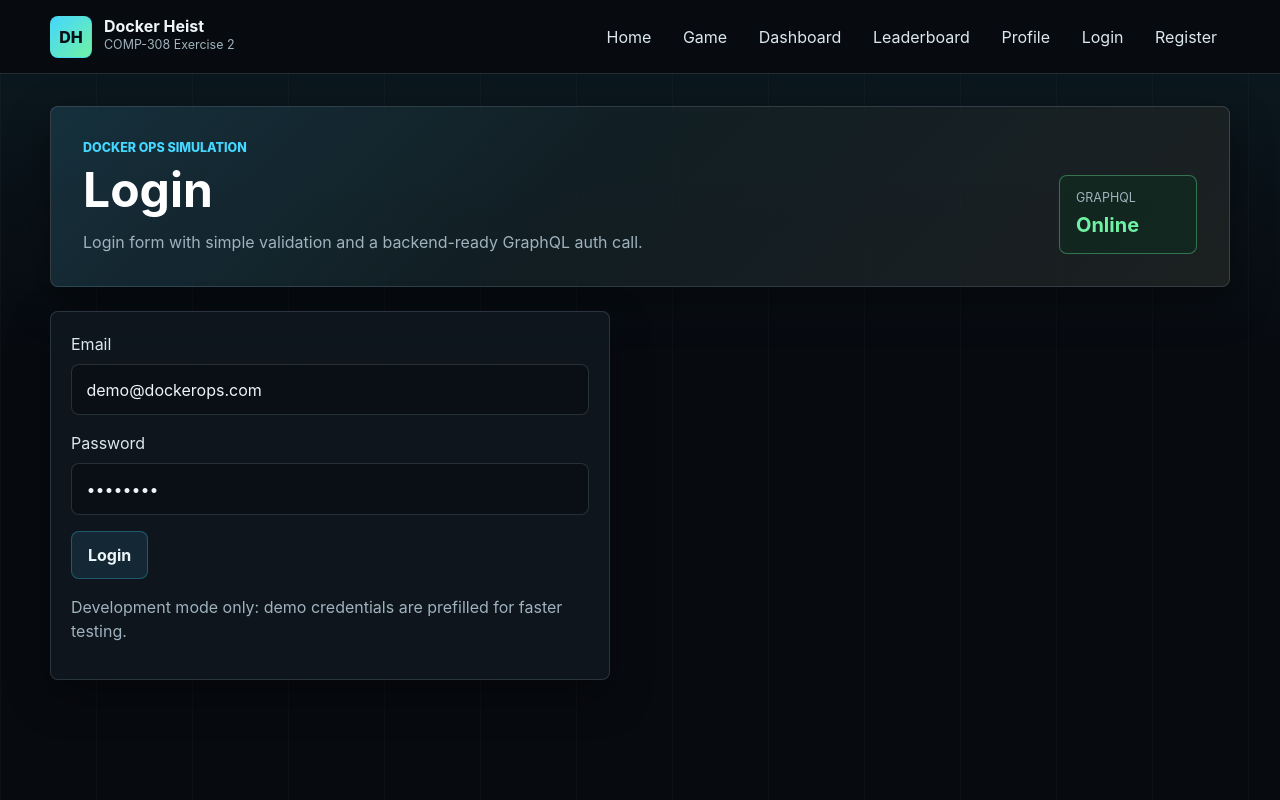
it: LoginPage › shows validation error when fields are empty
The width and height of the screenshot is (1280, 800).
Clear the field labelled "Email" at [330, 390], box [71,364,589,415]
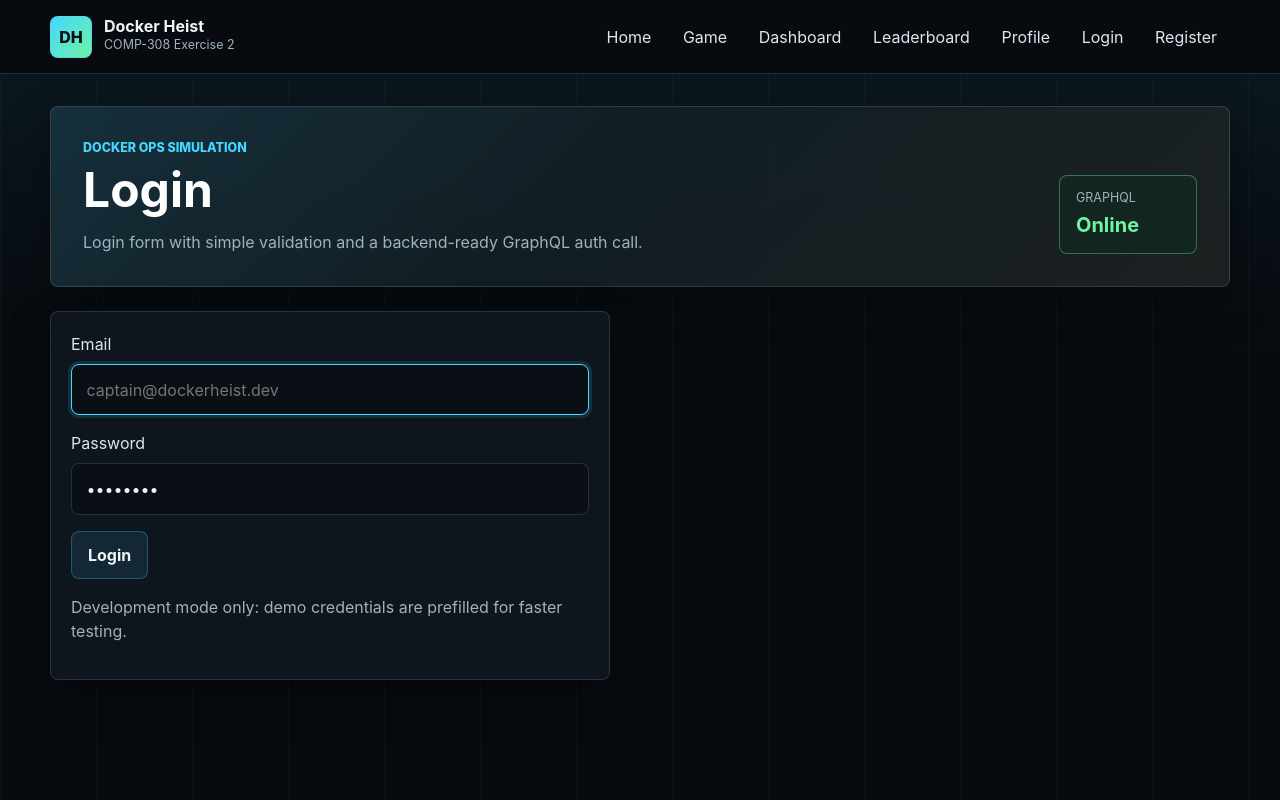
Clear the password field labelled "Password" at [330, 489], box [71,463,589,515]
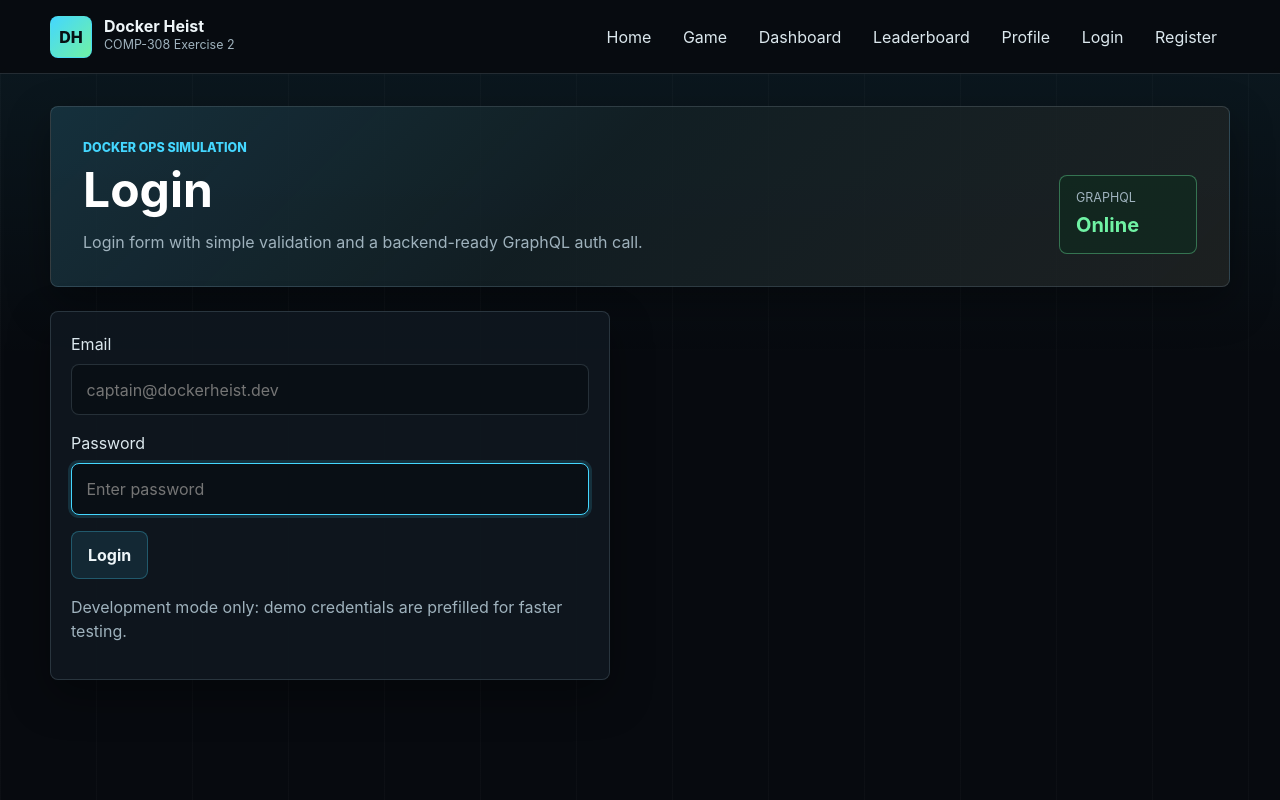
Click the button "Login" at [110, 555], box [71,531,148,579]
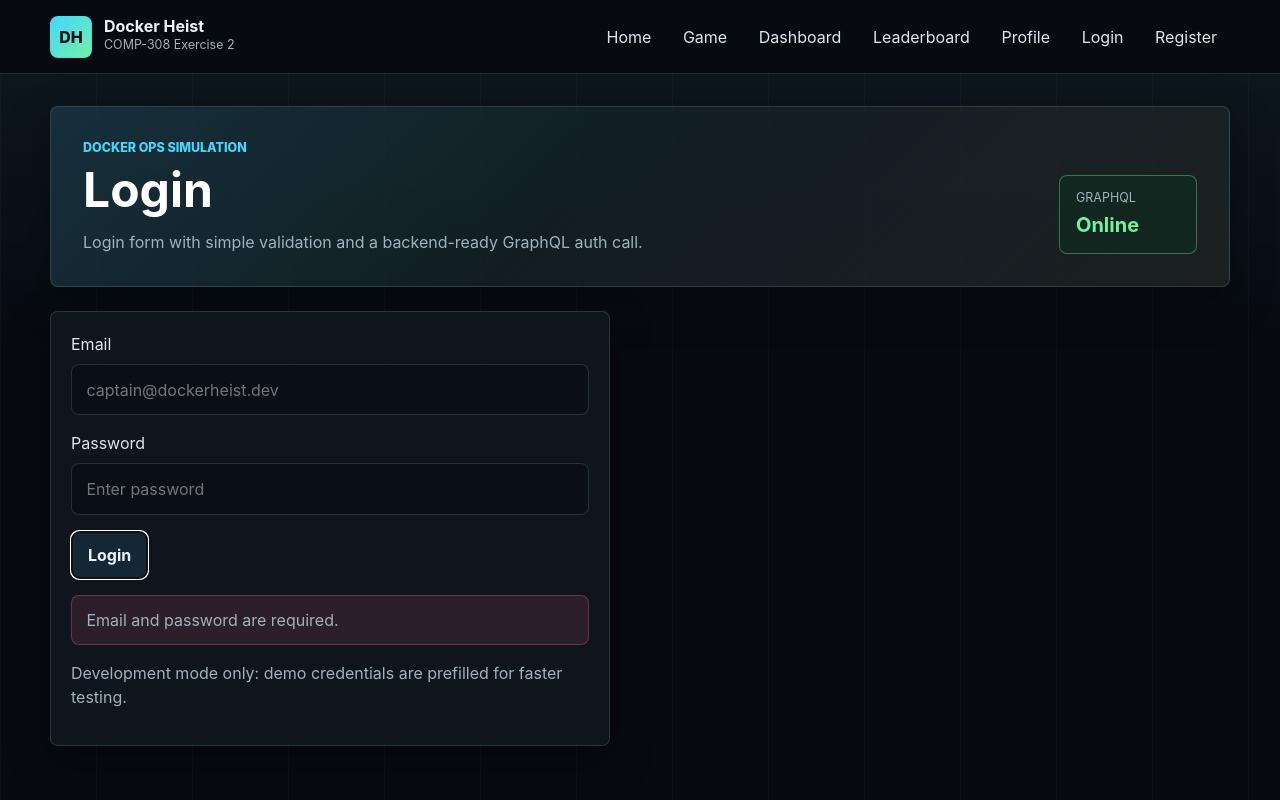
Expected: the message reads "Email and password are required.", [86,610,339,630]
